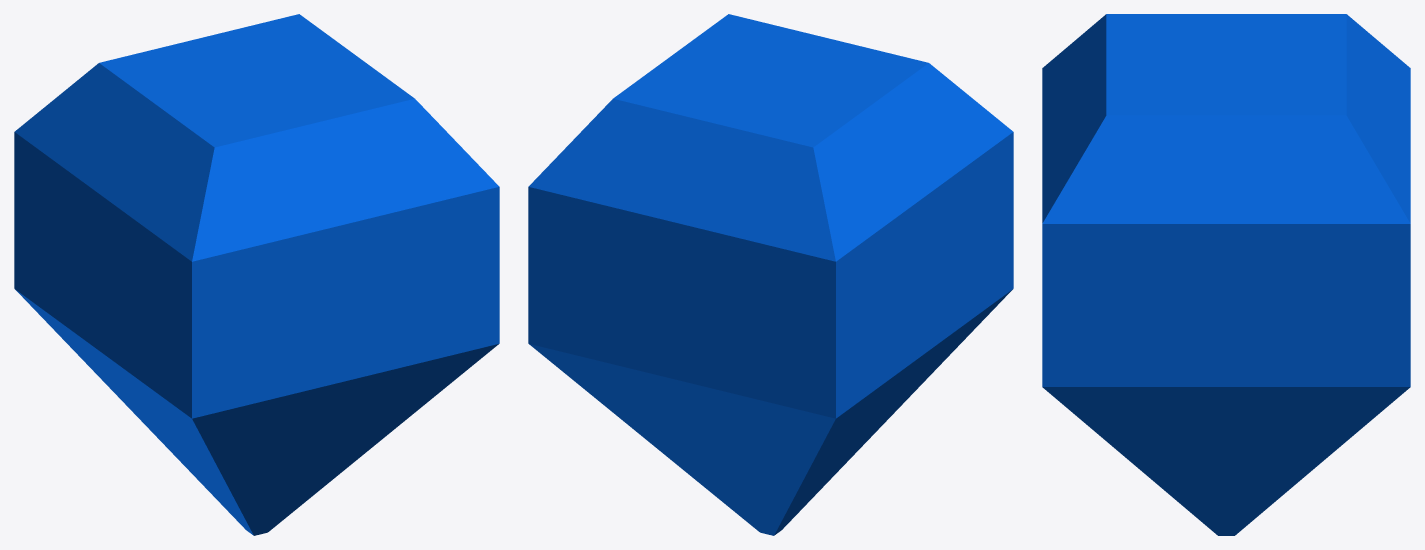
File: Gemfbx.fbx
The picture shows the model from 3 angles, left to right: view 1: azimuth 30°, elevation 25°; view 2: azimuth 150°, elevation 25°; view 3: azimuth 270°, elevation 25°; orthographic projection. The views are drawn at different scales.
Visible parts, largest first — view 1: Cube; view 2: Cube; view 3: Cube.
Part boxes in pixels (x1=…): Cube: x1=14, y1=14, x2=499, y2=535; Cube: x1=528, y1=14, x2=1013, y2=535; Cube: x1=1042, y1=14, x2=1410, y2=535.
Bounding box in the file's own units: 100 × 140 × 100.
